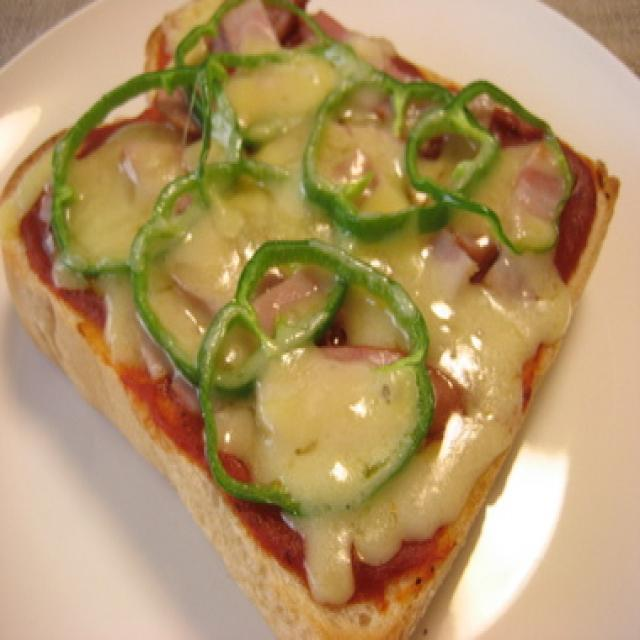面包点心: (13, 6, 638, 640)
